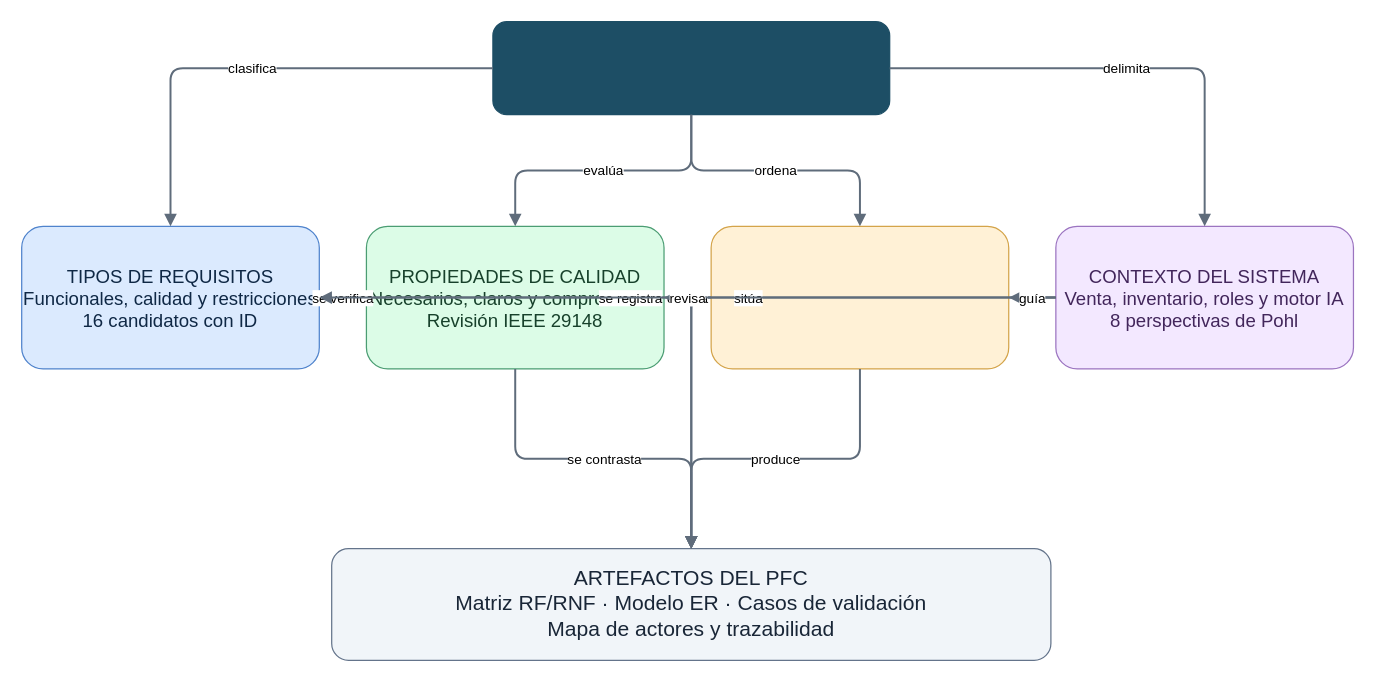
This 1375x682 diagram has some shape labels left out. Here are the shapes that lost their labels. From the top down, the centre of each, then its label:
At point (691, 67): "Ingeniería de requisitos del PFC".
At point (859, 297): "PROCESO DE REQUISITOS Elicitación, análisis, especificación y validación".
